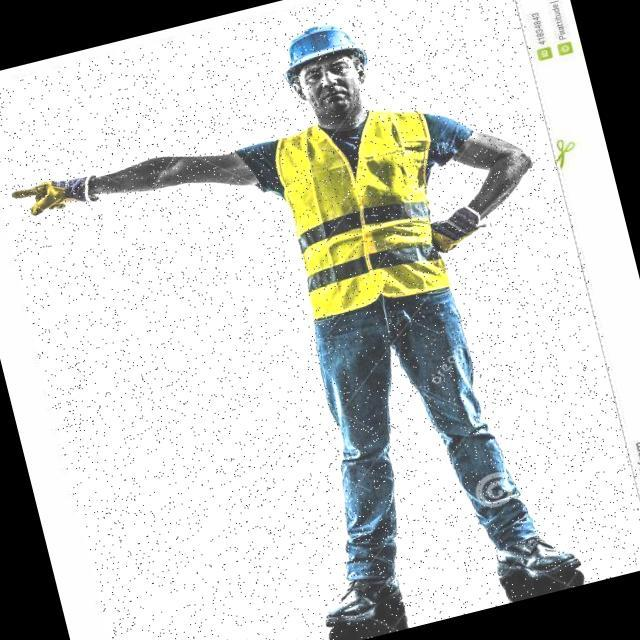Gloves: (0, 150, 110, 238), (416, 192, 505, 272)
Helmet: (263, 0, 378, 99)
Human: (0, 0, 640, 640)
Safety Boot: (299, 545, 416, 640), (476, 512, 596, 603)
Safety Vest: (251, 91, 470, 340)
